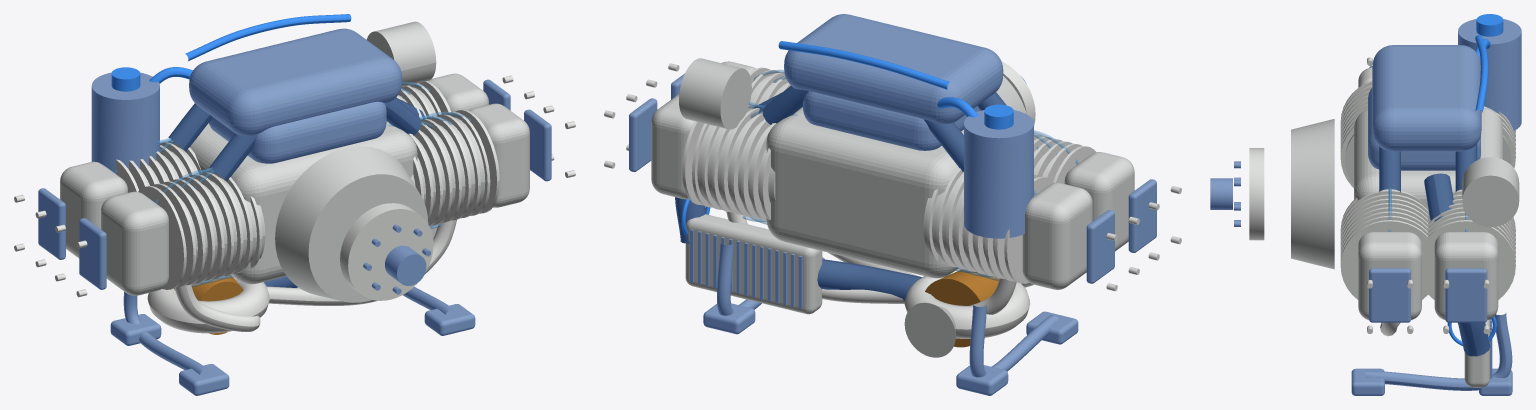
The model's file is twinguard-rotax-915-production.glb.
3 renders of one model, left to right at view 1: azimuth 30°, elevation 25°; view 2: azimuth 150°, elevation 25°; view 3: azimuth 270°, elevation 25°, orthographic. The views are drawn at different scales.
Visible parts, largest first — view 1: Intake plenum, Reduction gearbox, Crankcase, Cylinder head -1 1, Dry sump tank, Propeller flange, Upper crankcase, Cylinder head 1 1, Exhaust header (×2), Cylinder head -1 0, core, Intake runner (×3) (+31 smaller); view 2: Crankcase, Intake plenum, Dry sump tank, Intercooler, Cylinder head -1 0, Upper crankcase, Alternator, Cylinder head -1 1, Engine mount (×2), core, Cylinder head 1 0, turbo (+30 smaller); view 3: Intake plenum, Reduction gearbox, Dry sump tank, Crankcase, Cylinder head 1 0, Alternator, Cylinder head 1 1, Head cover 1 0, Cooling fin 1 0 8, Head cover 1 1, Engine mount, Cooling fin 1 1 8 (+20 smaller).
Boxes of the visible parts, <box> form: Intake plenum: <box>189,28,402,136</box>; Reduction gearbox: <box>275,146,428,302</box>; Crankcase: <box>190,121,417,284</box>; Cylinder head -1 1: <box>101,191,168,295</box>; Dry sump tank: <box>91,72,159,173</box>; Propeller flange: <box>340,203,433,300</box>; Upper crankcase: <box>208,101,386,163</box>; Cylinder head 1 1: <box>469,103,529,207</box>; Exhaust header (×2): <box>175,220,456,331</box>; Cylinder head -1 0: <box>60,161,127,258</box>; core: <box>110,304,475,395</box>; Intake runner (×3): <box>168,98,421,181</box>; Crankcase: <box>766,107,963,278</box>; Intake plenum: <box>784,14,1003,124</box>; Dry sump tank: <box>964,110,1033,238</box>; Intercooler: <box>685,214,822,314</box>; Cylinder head -1 0: <box>1022,182,1092,289</box>; Upper crankcase: <box>803,91,980,150</box>; Alternator: <box>679,58,751,129</box>; Cylinder head -1 1: <box>1064,152,1134,251</box>; Engine mount (×2): <box>717,243,1059,377</box>; core: <box>703,257,1078,395</box>; Cylinder head 1 0: <box>651,94,694,199</box>; turbo: <box>904,268,1030,338</box>; Intake plenum: <box>1372,45,1481,151</box>; Reduction gearbox: <box>1291,119,1334,269</box>; Dry sump tank: <box>1458,19,1521,130</box>; Crankcase: <box>1354,107,1503,206</box>; Cylinder head 1 0: <box>1434,232,1498,320</box>; Alternator: <box>1462,157,1519,227</box>; Cylinder head 1 1: <box>1358,232,1421,319</box>; Head cover 1 0: <box>1445,268,1487,322</box>; Cooling fin 1 0 8: <box>1422,220,1515,299</box>; Head cover 1 1: <box>1369,268,1410,322</box>; Engine mount: <box>1365,313,1512,390</box>; Cooling fin 1 1 8: <box>1340,220,1434,299</box>.
Bounding box in the file's own units: 6.38 × 3.55 × 3.72.
